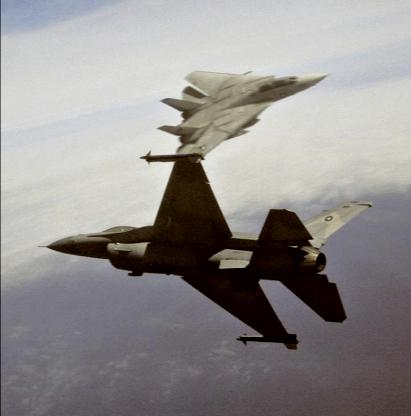EF2000: (155, 68, 331, 156)
F14: (37, 144, 373, 350)
